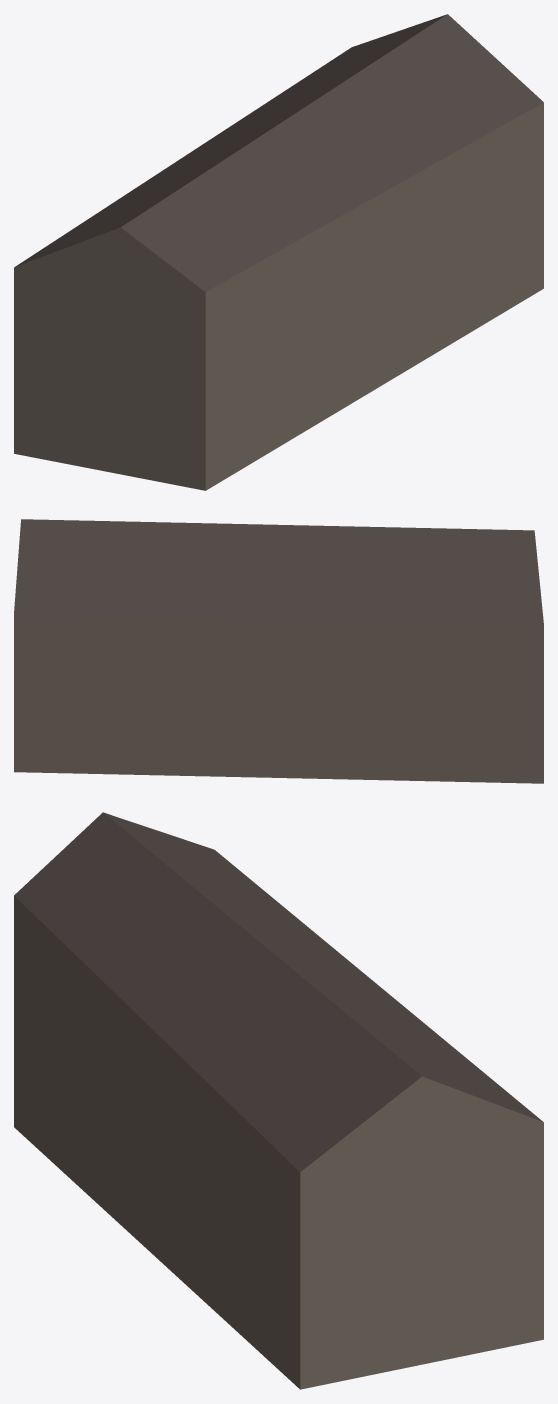
3 renders of one model, top to bottom at view 1: azimuth 30°, elevation 25°; view 2: azimuth 150°, elevation 25°; view 3: azimuth 270°, elevation 25°, orthographic. The views are drawn at different scales.
Visible parts, largest first — view 1: HP-w1512359754; view 2: HP-w1512359754; view 3: HP-w1512359754.
Part boxes in pixels (x1=…): HP-w1512359754: x1=14, y1=14, x2=543, y2=490; HP-w1512359754: x1=14, y1=519, x2=543, y2=783; HP-w1512359754: x1=14, y1=812, x2=543, y2=1389.
Bounding box in the file's own units: 28.65 × 11.93 × 19.89.
